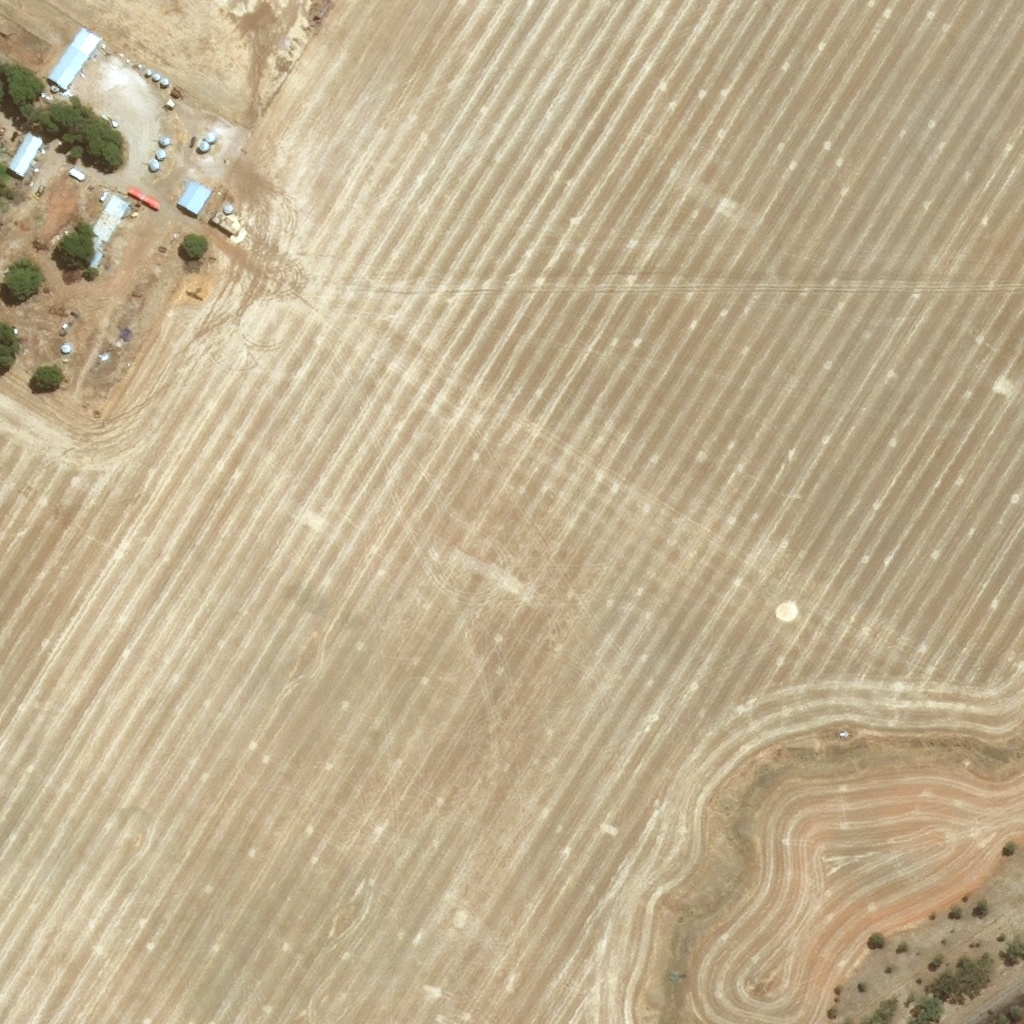0 no-damage: (79, 194, 131, 268), (45, 25, 101, 91), (7, 131, 44, 177), (176, 180, 211, 215), (66, 167, 86, 183), (196, 139, 211, 153), (147, 158, 161, 173), (154, 147, 167, 162), (203, 131, 216, 145), (158, 139, 169, 151), (61, 343, 71, 355), (222, 204, 232, 214), (151, 73, 160, 83), (50, 85, 59, 94), (161, 78, 169, 87), (144, 69, 152, 76)
3 destroyed: (5, 128, 21, 142), (4, 139, 17, 153)
4 un-classified: (164, 128, 177, 142), (140, 169, 153, 181)
